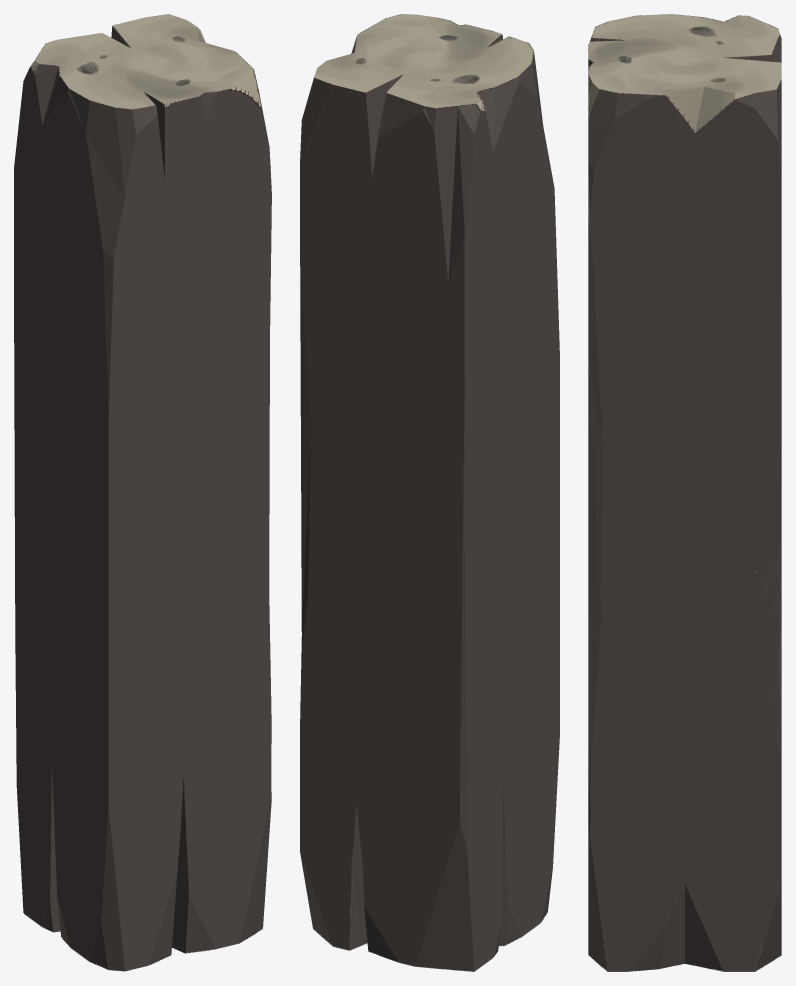
The model's file is Mur_1.fbx.
3 views of the same model, side by side, from view 1: azimuth 30°, elevation 25°; view 2: azimuth 150°, elevation 25°; view 3: azimuth 270°, elevation 25° (orthographic). The views are drawn at different scales.
Parts seen in each view (by area): view 1: Box007; view 2: Box007; view 3: Box007.
Boxes of the visible parts, x1,y1,x2,y2 form: Box007: [14, 14, 271, 971]; Box007: [300, 14, 559, 971]; Box007: [588, 14, 781, 971].
Bounding box in the file's own units: 39.37 × 197 × 39.37.
